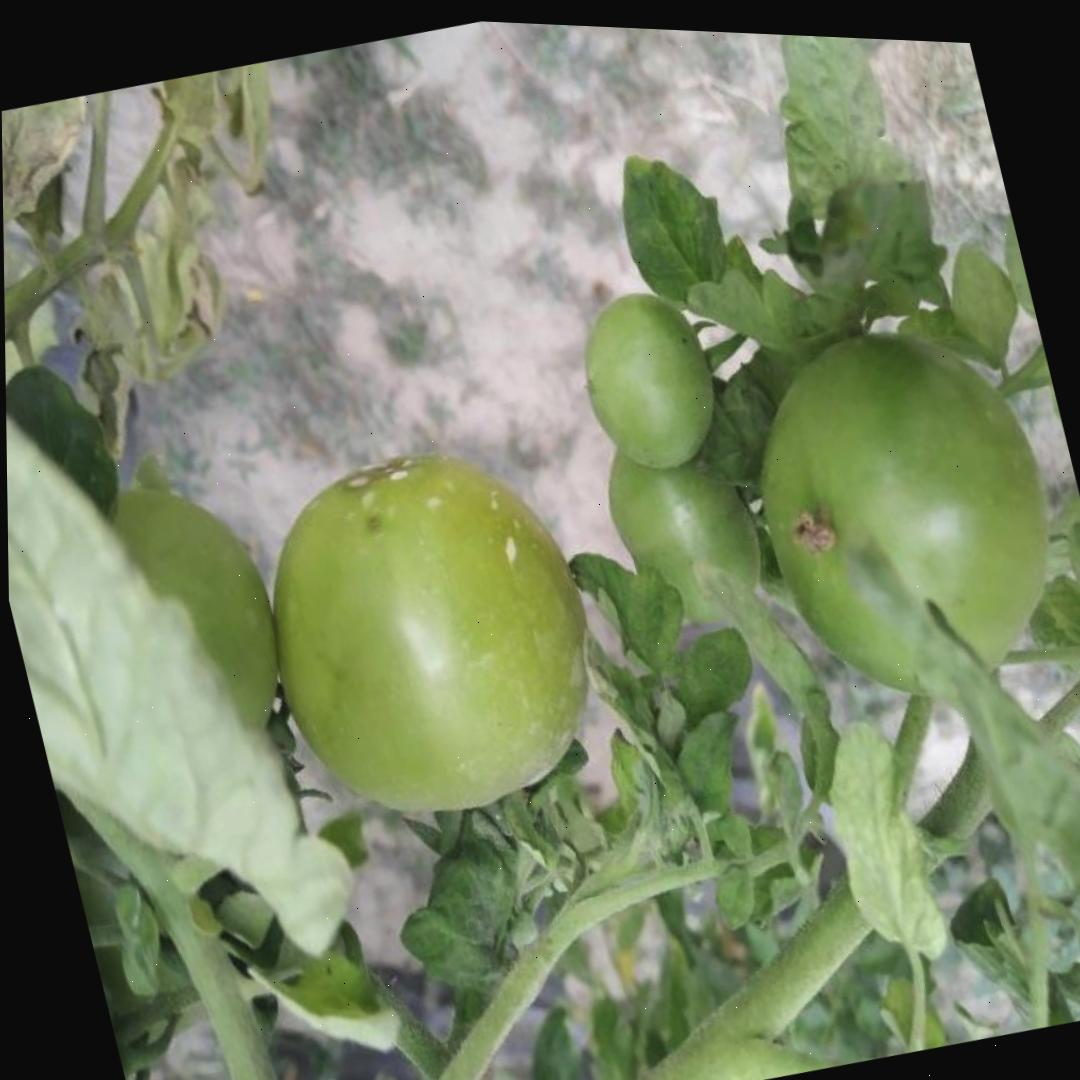mentah: (229, 412, 629, 855), (721, 292, 1080, 731), (564, 279, 733, 488)
